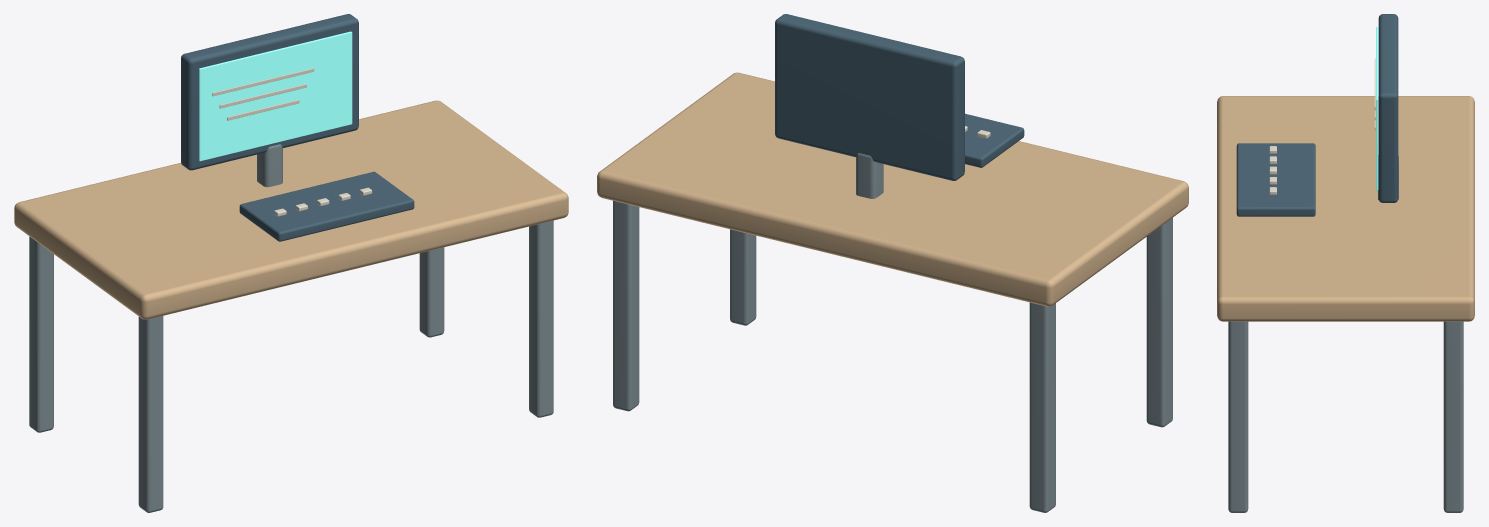
File: alpha_console.glb
3 views of the same model, side by side, from view 1: azimuth 30°, elevation 25°; view 2: azimuth 150°, elevation 25°; view 3: azimuth 270°, elevation 25° (orthographic). The views are drawn at different scales.
Visible parts, largest first — view 1: Alpha_lightwood, Alpha_metal, Alpha_screen, Alpha_navy, Alpha_cream; view 2: Alpha_lightwood, Alpha_navy, Alpha_metal; view 3: Alpha_lightwood, Alpha_navy, Alpha_metal, Alpha_screen, Alpha_cream.
Boxes of the visible parts, <box> form: Alpha_lightwood: <box>14,100,568,319</box>; Alpha_metal: <box>29,144,553,512</box>; Alpha_screen: <box>199,31,352,161</box>; Alpha_navy: <box>181,14,414,241</box>; Alpha_cream: <box>212,68,372,216</box>; Alpha_lightwood: <box>597,72,1188,306</box>; Alpha_navy: <box>775,14,1024,180</box>; Alpha_metal: <box>613,153,1172,512</box>; Alpha_lightwood: <box>1217,96,1474,321</box>; Alpha_navy: <box>1236,14,1398,216</box>; Alpha_metal: <box>1228,155,1463,512</box>; Alpha_screen: <box>1376,27,1378,190</box>; Alpha_cream: <box>1269,58,1375,194</box>.
Bounding box in the file's own units: 1.6 × 1.32 × 0.85.
